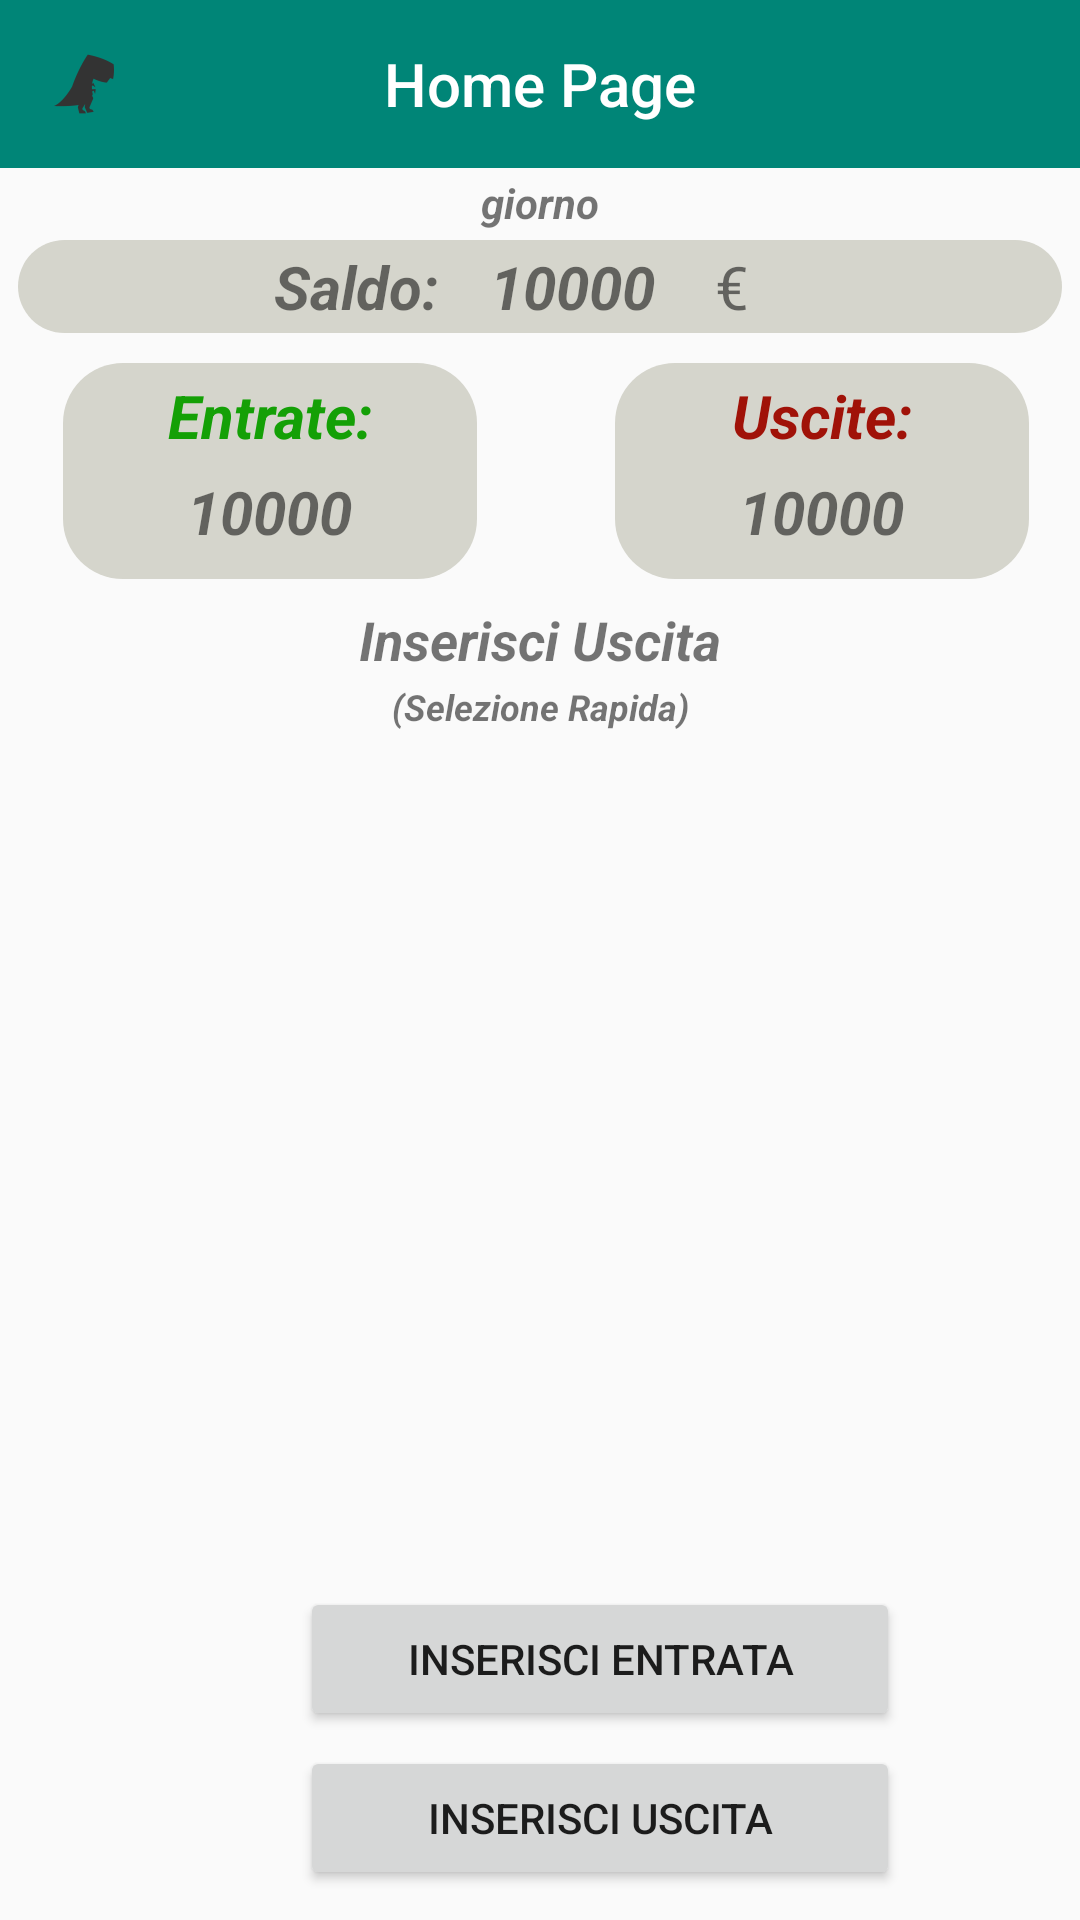

Screen size 1080 × 1920. Icon name, then its box in pixels as {"x1": x1, "y1": y1, "x2": x2, "y2": y2}:
rex: {"x1": 55, "y1": 55, "x2": 114, "y2": 114}
